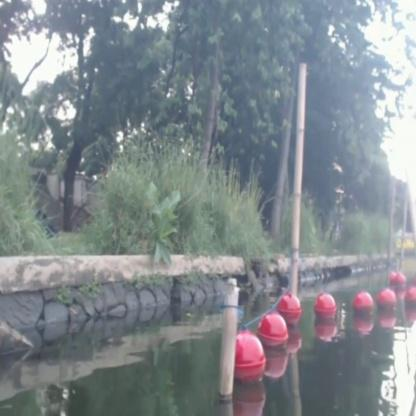red_buoy: (262, 310, 287, 356), (240, 334, 264, 376), (280, 289, 304, 323), (314, 292, 338, 324), (352, 290, 372, 320), (378, 290, 396, 310), (405, 288, 415, 312), (392, 272, 407, 288)
